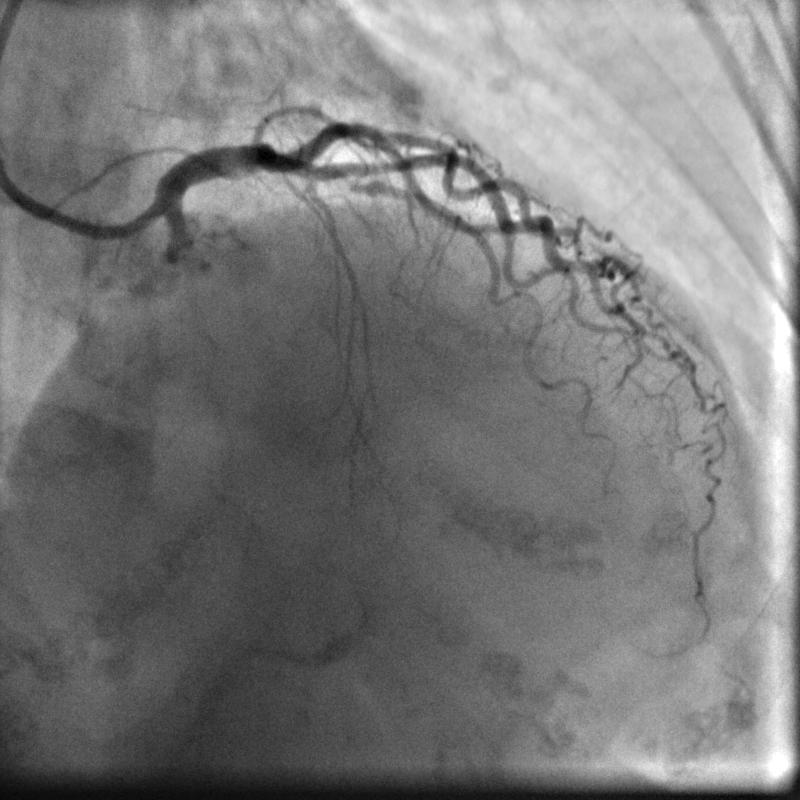Stenosis: (346, 174, 386, 191)
